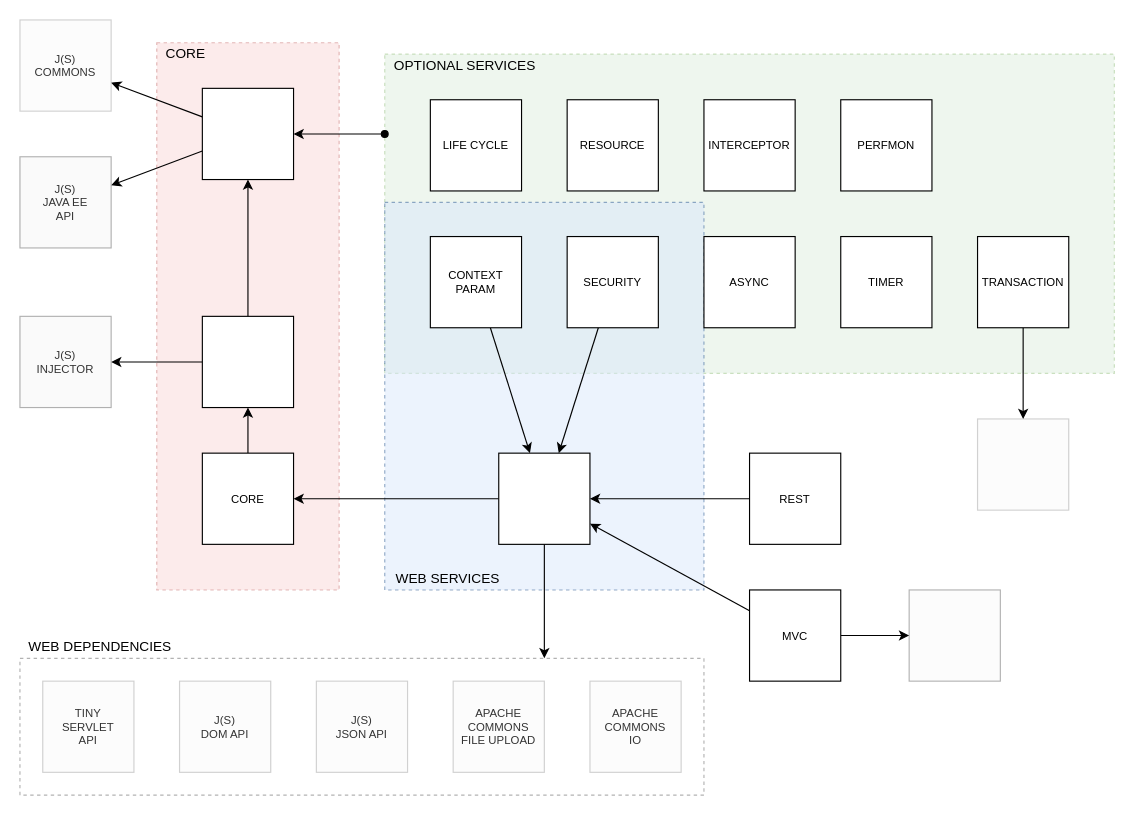
This 1134x815 diagram has some shape labels left out. Each missing label, with the centre of its shape:
"CDI" belongs at point 247,361.
"J(S) TEMPLATE API" belongs at point 954,635.
"J(S) TRANSACTION API" belongs at point 1022,464.
"SPI" belongs at point 247,133.
"WEB (HTTP-RMI)" belongs at point 544,498.
